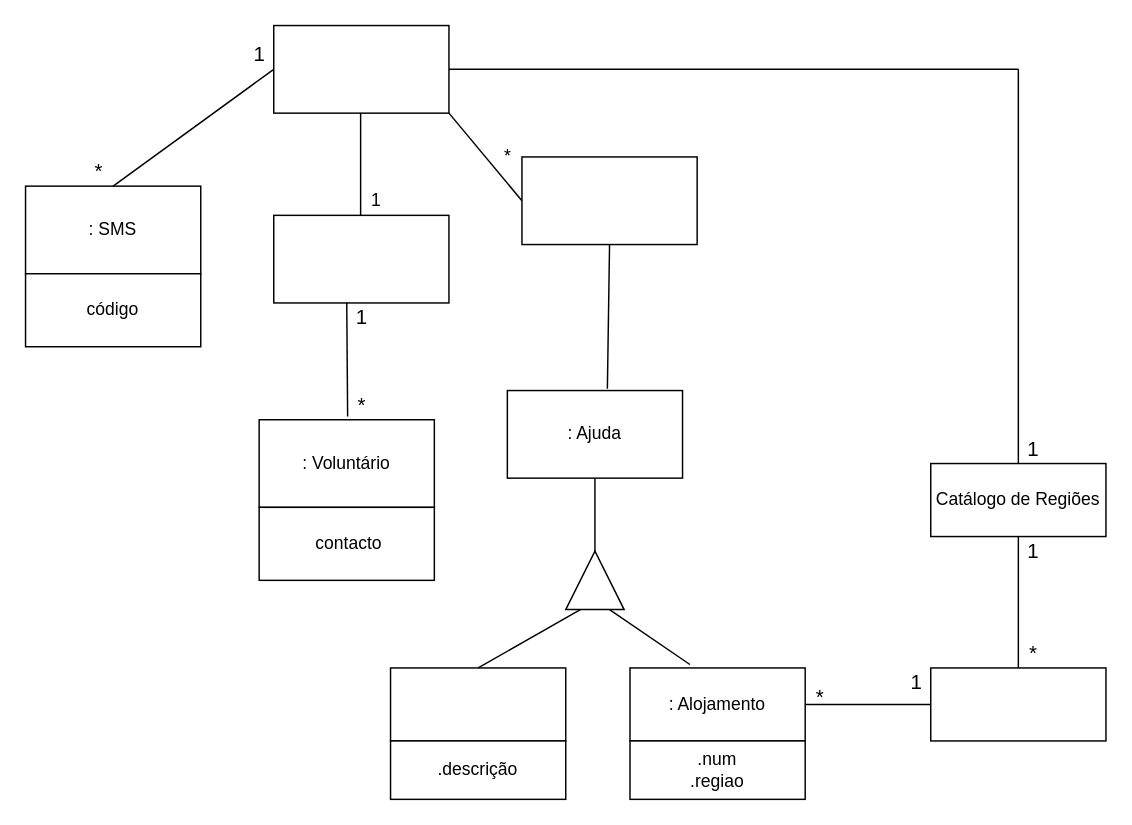
Image size: 1132x825. Some labels were removed from this diagram. The box of each missing label's shape, as (x1, y1, x2, y2) in pixels:
: Item: (389, 666, 566, 741)
: Migrantmatcher: (272, 24, 449, 113)
: Região: (929, 666, 1106, 741)
Catálogo de Ajuda: (520, 155, 697, 245)
Catálogo de Voluntário: (272, 214, 449, 303)
